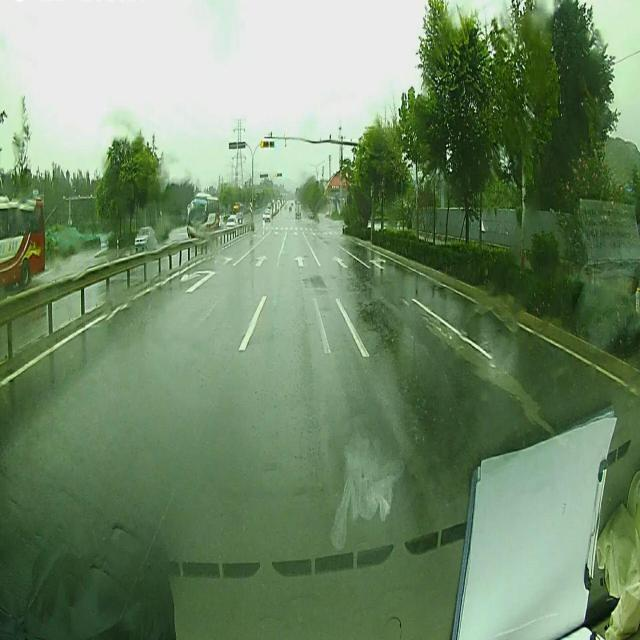car: (186, 188, 221, 243), (136, 227, 154, 250)
